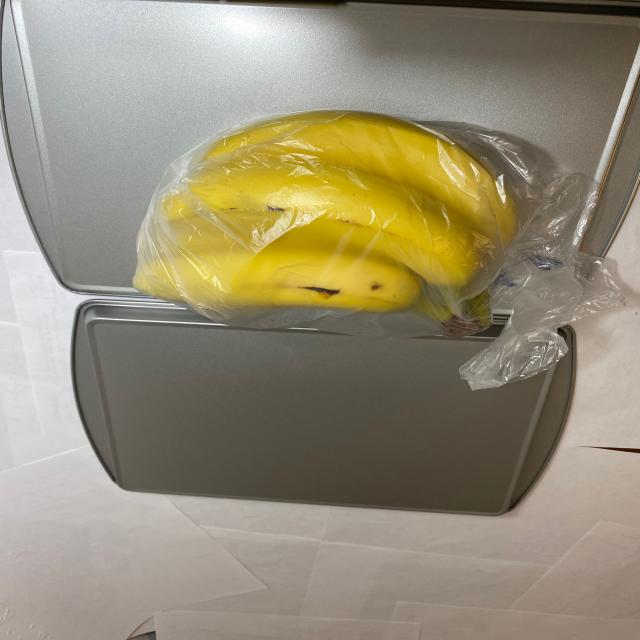banana: (131, 104, 522, 351)
